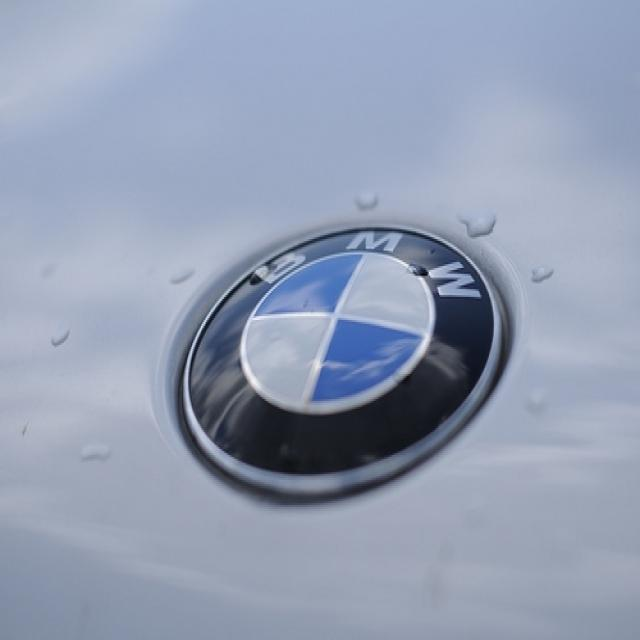bmw: (178, 219, 509, 508)
